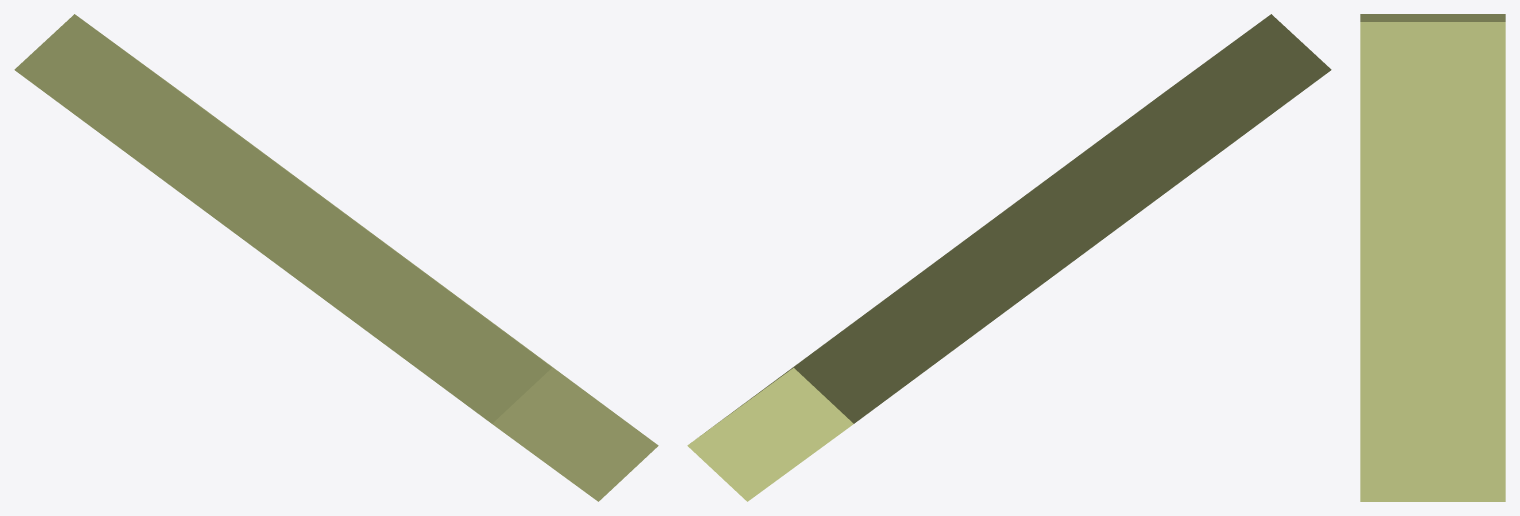
The picture shows the model from 3 angles, left to right: view 1: azimuth 30°, elevation 25°; view 2: azimuth 150°, elevation 25°; view 3: azimuth 270°, elevation 25°; orthographic projection. The views are drawn at different scales.
Parts seen in each view (by area): view 1: 0_1_2_0_3_3_2_1_2; view 2: 0_1_2_0_3_3_2_1_2; view 3: 0_1_2_0_3_3_2_1_2.
Boxes of the visible parts, x1,y1,x2,y2 form: 0_1_2_0_3_3_2_1_2: (14,14,658,501); 0_1_2_0_3_3_2_1_2: (687,14,1331,501); 0_1_2_0_3_3_2_1_2: (1360,14,1505,501).
Size of the model in its own units: 17.49 by 15.9 by 6.
